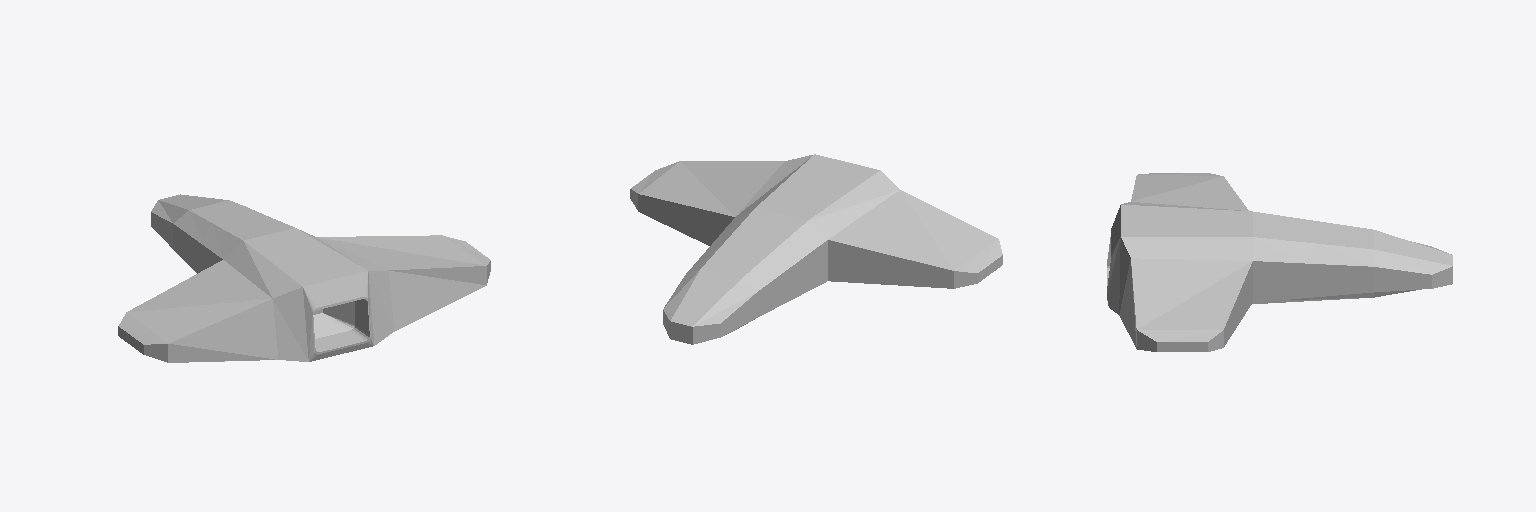
File: SpaceShip1.obj
3 renders of one model, left to right at view 1: azimuth 30°, elevation 25°; view 2: azimuth 150°, elevation 25°; view 3: azimuth 270°, elevation 25°, orthographic.
Parts seen in each view (by area): view 1: Cube_Cube.001; view 2: Cube_Cube.001; view 3: Cube_Cube.001.
Part boxes in pixels (x1,y1,x2,y2): Cube_Cube.001: (118,194,490,362); Cube_Cube.001: (630,154,1002,344); Cube_Cube.001: (1107,173,1452,351).
Bounding box in the file's own units: 3.44 × 0.6712 × 2.97.